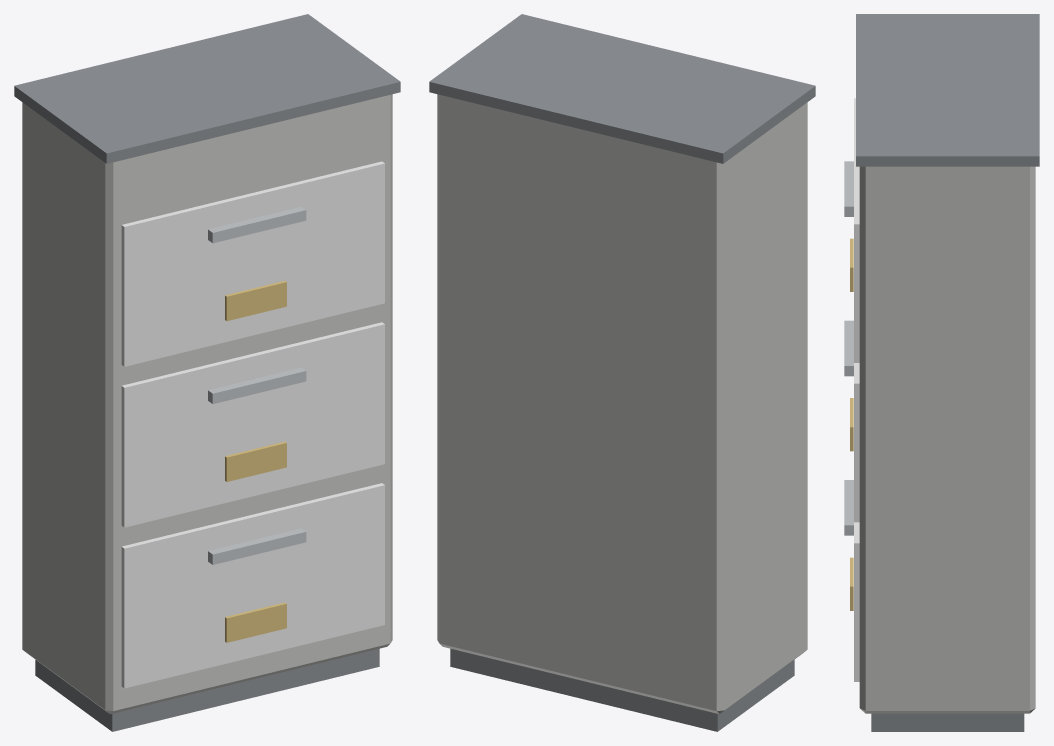
Rendered from P_file_cabinet.fbx.
3 views of the same model, side by side, from view 1: azimuth 30°, elevation 25°; view 2: azimuth 150°, elevation 25°; view 3: azimuth 270°, elevation 25° (orthographic).
Visible parts, largest first — view 1: P_file_cabinet; view 2: P_file_cabinet; view 3: P_file_cabinet.
Boxes of the visible parts, x1=… form: P_file_cabinet: x1=14, y1=14, x2=400, y2=731; P_file_cabinet: x1=429, y1=14, x2=815, y2=731; P_file_cabinet: x1=844, y1=14, x2=1039, y2=731.
Size of the model in its own units: 0.88 by 1.68 by 0.51.
